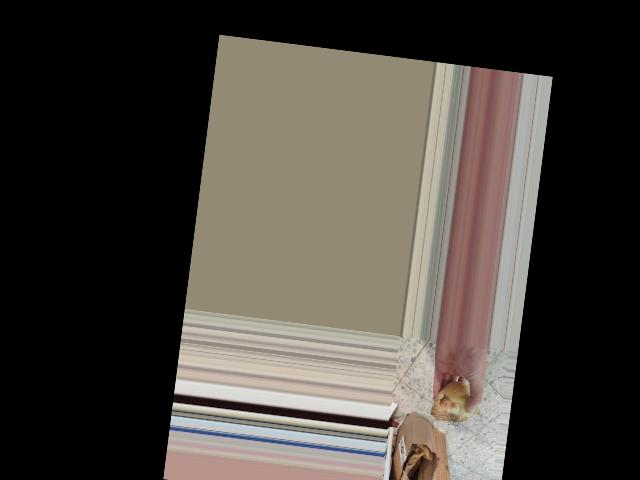onion: (427, 375, 484, 430)
